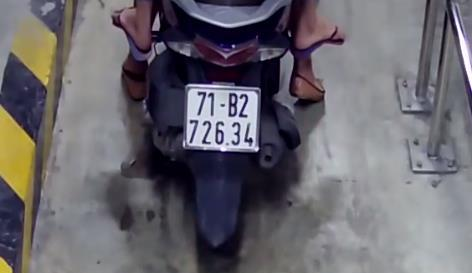lisence: (184, 83, 260, 150)
